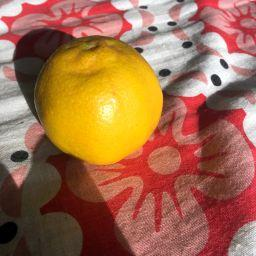Unripe: (33, 37, 161, 162)
